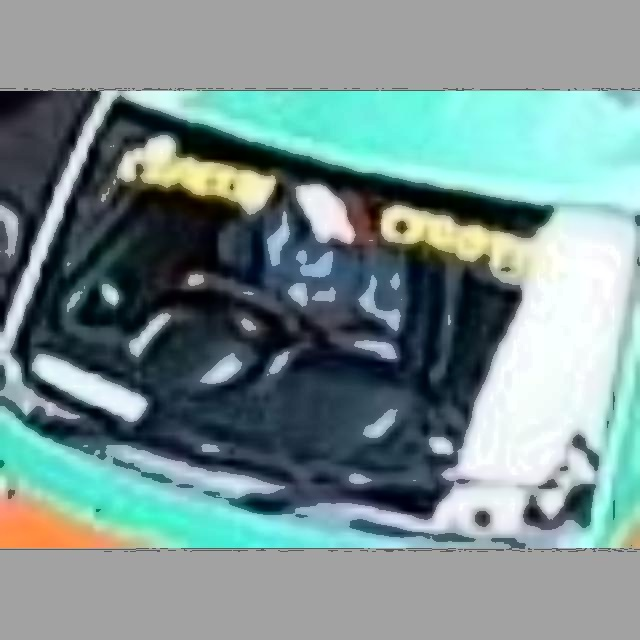tidak-pakai: (188, 197, 393, 373)
